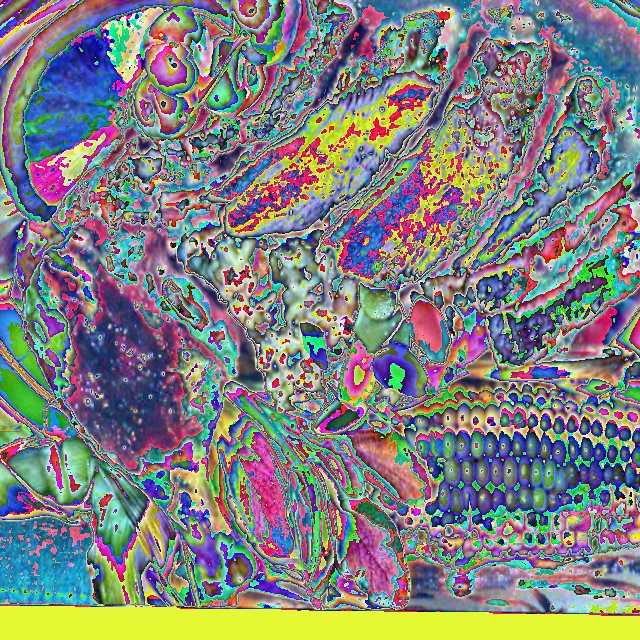background: (0, 0, 640, 614)
